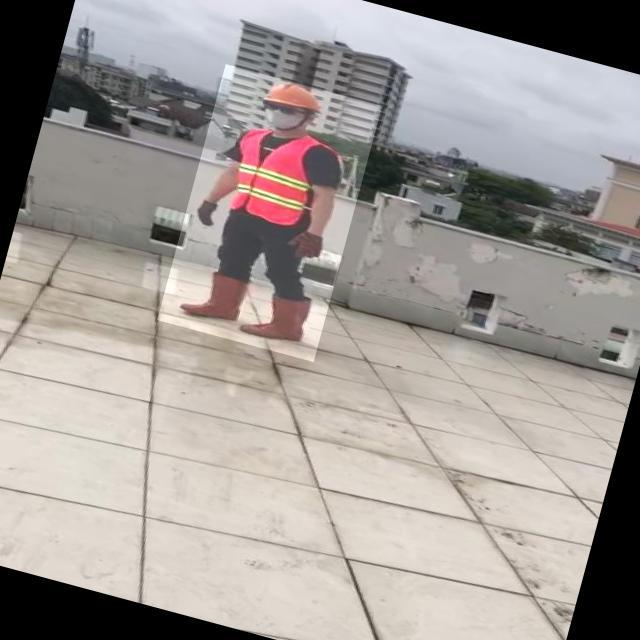Gloves: (286, 230, 326, 265), (192, 199, 219, 230)
Helmet: (258, 76, 325, 115)
Human: (157, 64, 382, 362)
Safety Boot: (239, 286, 315, 350), (181, 267, 251, 329)
Safety Vest: (223, 125, 325, 230)
